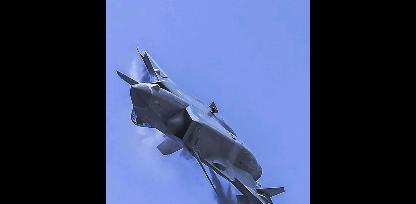F4: (116, 46, 310, 201)
